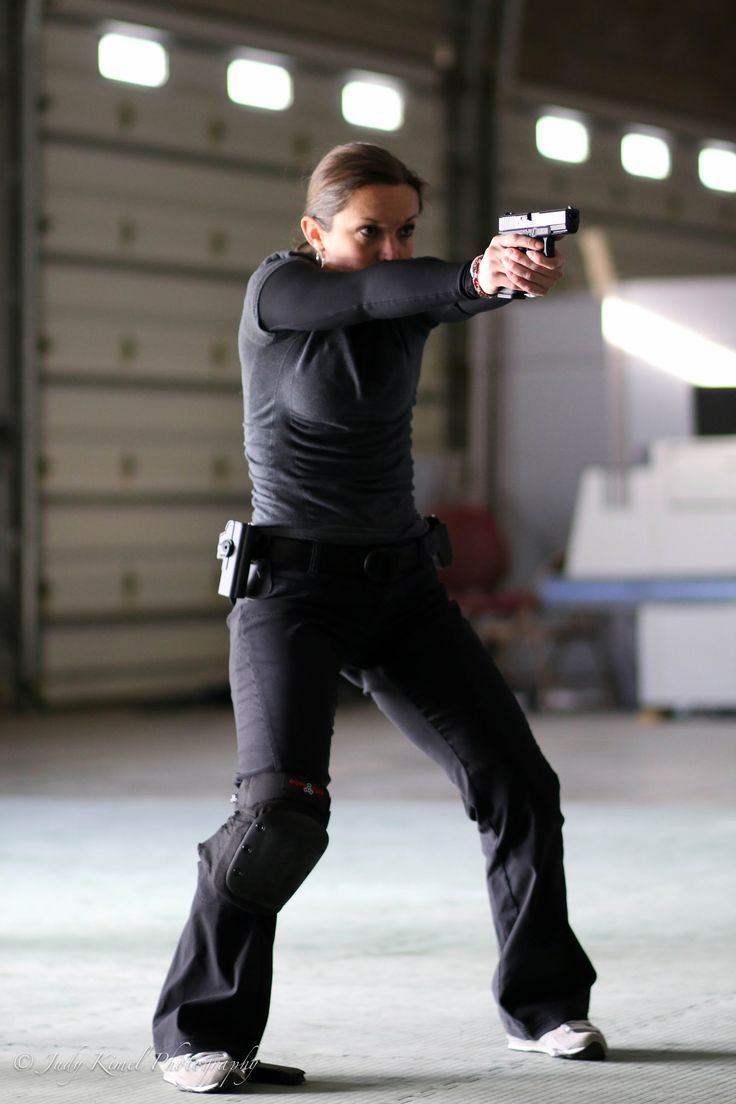gun: (486, 203, 590, 307)
person: (143, 135, 615, 1104)
